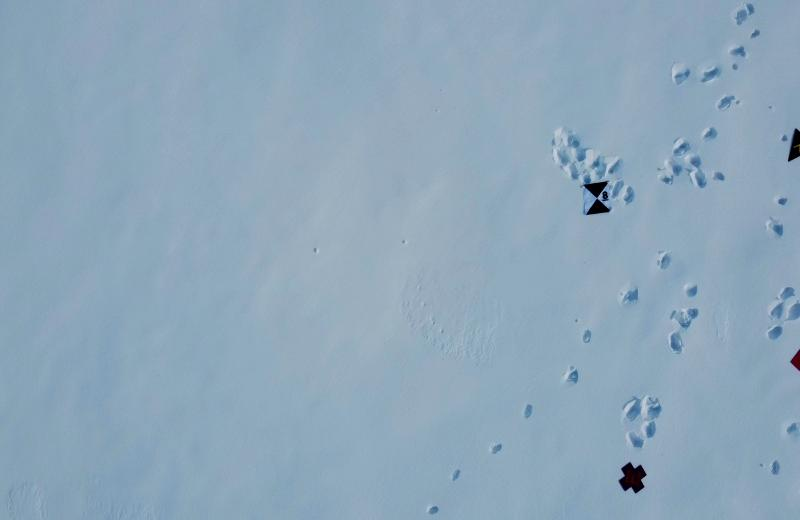Cross: (616, 458, 648, 497)
Triangle: (784, 124, 800, 165)
